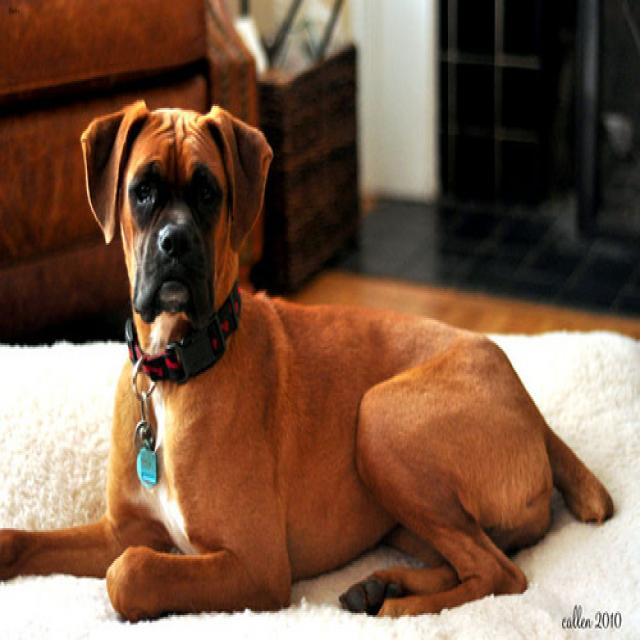dog-boxer: (1, 89, 625, 632)
